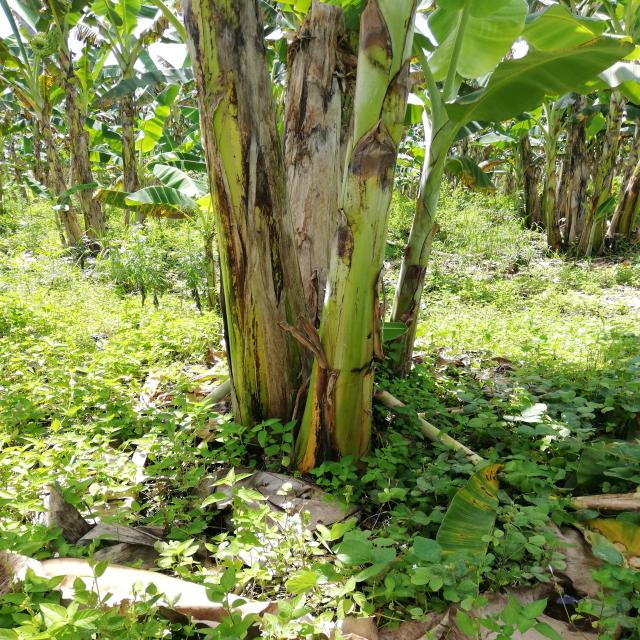Banana-plant: (283, 6, 423, 467), (182, 8, 287, 434), (276, 0, 340, 406), (394, 136, 462, 369), (65, 71, 128, 251), (22, 88, 82, 254), (578, 104, 627, 260), (110, 43, 154, 201), (540, 108, 562, 252)
